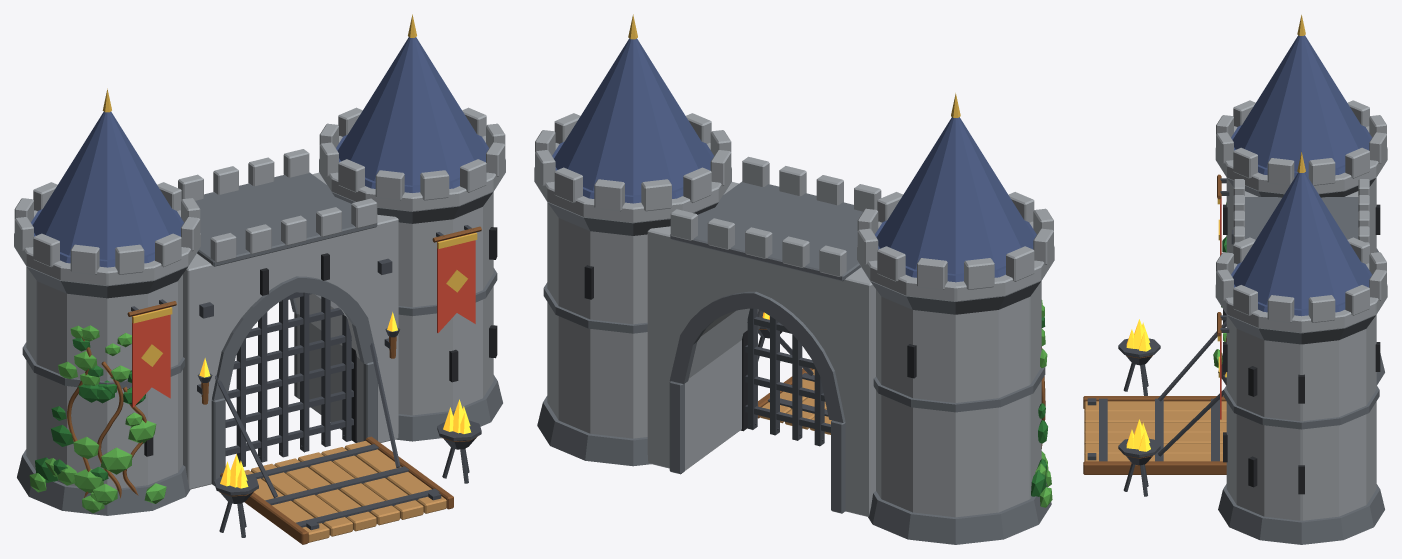
File: castle-gatehouse.glb
3 renders of one model, left to right at view 1: azimuth 30°, elevation 25°; view 2: azimuth 150°, elevation 25°; view 3: azimuth 270°, elevation 25°, orthographic. The views are drawn at different scales.
Visible parts, largest first — view 1: GateWall, Tower_L, Tower_R, Drawbridge_Deck, Roof_R, Roof_L, Portcullis_Grid, GateWalk, Ivy_Leaves, ArchTrim_F, TowerBase_L, Banner_-1 (+30 smaller); view 2: Tower_L, GateWall, Tower_R, Roof_R, Roof_L, GateWalk, Portcullis_Grid, TowerBase_L, ArchTrim_B, TowerBase_R, Parapet_L, Parapet_R (+30 smaller); view 3: Tower_R, Roof_R, Roof_L, Drawbridge_Deck, TowerBase_R, Parapet_R, GateWalk, Parapet_L, Corbel_R, TowerBand_R, Tower_L, Merlon_R_11 (+17 smaller).
Part boxes in pixels (bbox=[...]): GateWall: bbox=[183, 172, 398, 489]; Tower_L: bbox=[26, 266, 182, 488]; Tower_R: bbox=[398, 192, 493, 415]; Drawbridge_Deck: bbox=[220, 436, 453, 544]; Roof_R: bbox=[337, 37, 487, 185]; Roof_L: bbox=[32, 111, 182, 259]; Portcullis_Grid: bbox=[225, 292, 353, 466]; GateWalk: bbox=[195, 172, 377, 266]; Ivy_Leaves: bbox=[29, 325, 166, 513]; ArchTrim_F: bbox=[212, 276, 377, 400]; TowerBase_L: bbox=[17, 449, 190, 515]; Banner_-1: bbox=[132, 307, 170, 407]; Tower_L: bbox=[876, 281, 1041, 517]; GateWall: bbox=[647, 182, 875, 516]; Tower_R: bbox=[547, 202, 647, 438]; Roof_R: bbox=[554, 38, 712, 195]; Roof_L: bbox=[876, 117, 1034, 274]; GateWalk: bbox=[670, 181, 862, 281]; Portcullis_Grid: bbox=[745, 308, 830, 446]; TowerBase_L: bbox=[868, 483, 1051, 544]; ArchTrim_B: bbox=[669, 291, 845, 422]; TowerBase_R: bbox=[537, 396, 650, 466]; Parapet_L: bbox=[857, 221, 1054, 301]; Parapet_R: bbox=[534, 143, 731, 222]; Tower_R: bbox=[1226, 315, 1376, 520]; Roof_R: bbox=[1232, 172, 1370, 309]; Roof_L: bbox=[1232, 35, 1370, 171]; Drawbridge_Deck: bbox=[1083, 396, 1226, 474]; TowerBase_R: bbox=[1218, 484, 1384, 544]; Parapet_R: bbox=[1215, 263, 1387, 332]; GateWalk: bbox=[1245, 197, 1358, 239]; Parapet_L: bbox=[1215, 126, 1387, 193]; Corbel_R: bbox=[1215, 297, 1387, 344]; TowerBand_R: bbox=[1223, 385, 1379, 429]; Tower_L: bbox=[1226, 178, 1376, 253]; Merlon_R_11: bbox=[1267, 295, 1294, 322].
Bounding box in the file's own units: 39.87 × 31.74 × 24.4.
